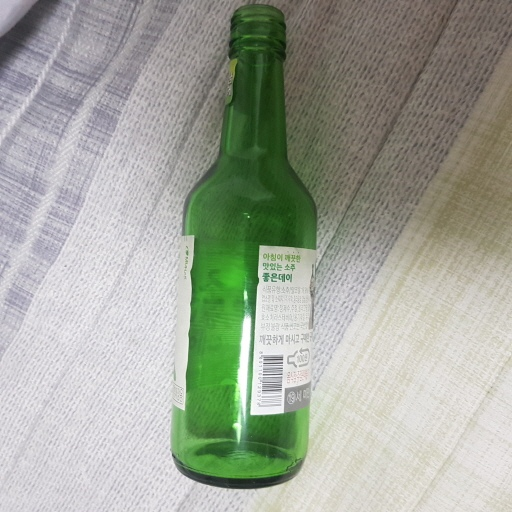Glass_0: (175, 1, 320, 491)
